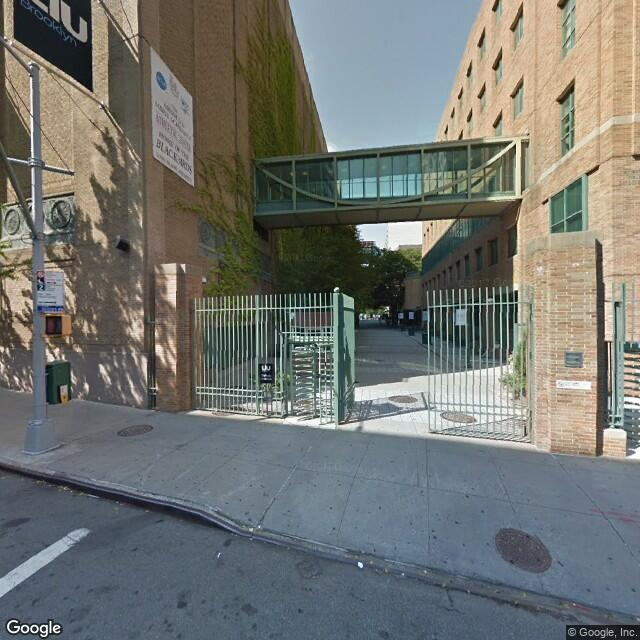litter: (351, 560, 367, 574)
